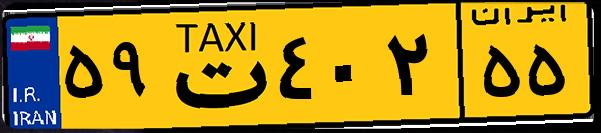0: (330, 28, 385, 110)
2: (385, 28, 445, 110)
4: (270, 28, 330, 110)
5: (57, 26, 110, 100), (475, 38, 525, 113), (525, 38, 570, 115)
9: (110, 28, 158, 98)
ت: (158, 12, 270, 120)
